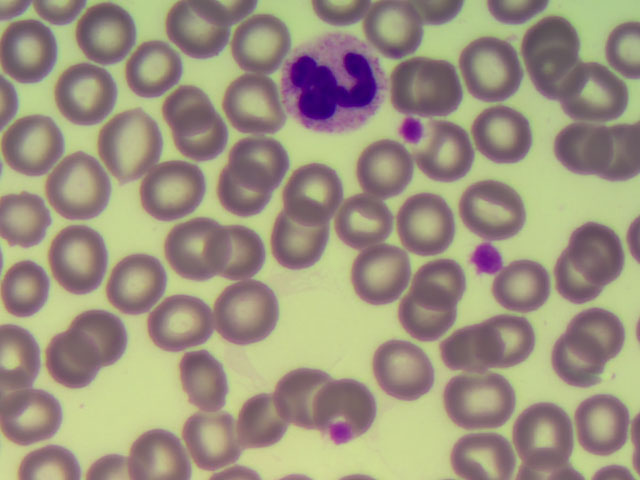Platelets: (467, 240, 503, 272), (398, 117, 431, 144), (331, 421, 354, 444)
RBC: (136, 414, 196, 480), (3, 18, 63, 83), (127, 32, 187, 97), (60, 58, 120, 123), (8, 114, 68, 179), (48, 151, 108, 216), (93, 109, 153, 174), (156, 71, 216, 136), (179, 107, 239, 172), (145, 155, 205, 220), (51, 222, 111, 287), (6, 249, 66, 314), (36, 324, 96, 389), (73, 308, 133, 373), (104, 259, 164, 324), (170, 216, 230, 281), (210, 221, 270, 286), (219, 290, 279, 355), (151, 286, 211, 351), (175, 349, 235, 414), (187, 397, 247, 462), (4, 377, 64, 442), (9, 320, 69, 385), (233, 387, 293, 452), (257, 365, 317, 430), (319, 358, 379, 423), (377, 335, 437, 400), (388, 285, 448, 350), (405, 252, 465, 317), (361, 229, 421, 294), (328, 197, 388, 262), (291, 161, 351, 226), (274, 203, 334, 268), (234, 132, 294, 197), (219, 156, 279, 221), (223, 68, 283, 133), (224, 8, 284, 73), (177, 4, 237, 69), (480, 107, 540, 172), (436, 126, 496, 191), (475, 179, 535, 244), (409, 192, 469, 257), (358, 141, 418, 206), (416, 40, 476, 105), (399, 43, 459, 108), (447, 30, 507, 95), (518, 15, 578, 80), (564, 48, 624, 113), (564, 102, 624, 167), (572, 224, 632, 289), (537, 243, 597, 308), (502, 254, 562, 319), (494, 299, 554, 364), (449, 331, 509, 396), (456, 374, 516, 439), (517, 387, 577, 452), (568, 387, 628, 452), (540, 333, 600, 398), (568, 305, 628, 370), (568, 304, 628, 369), (73, 1, 133, 65), (1, 190, 60, 255)
WBC: (286, 31, 390, 127)
